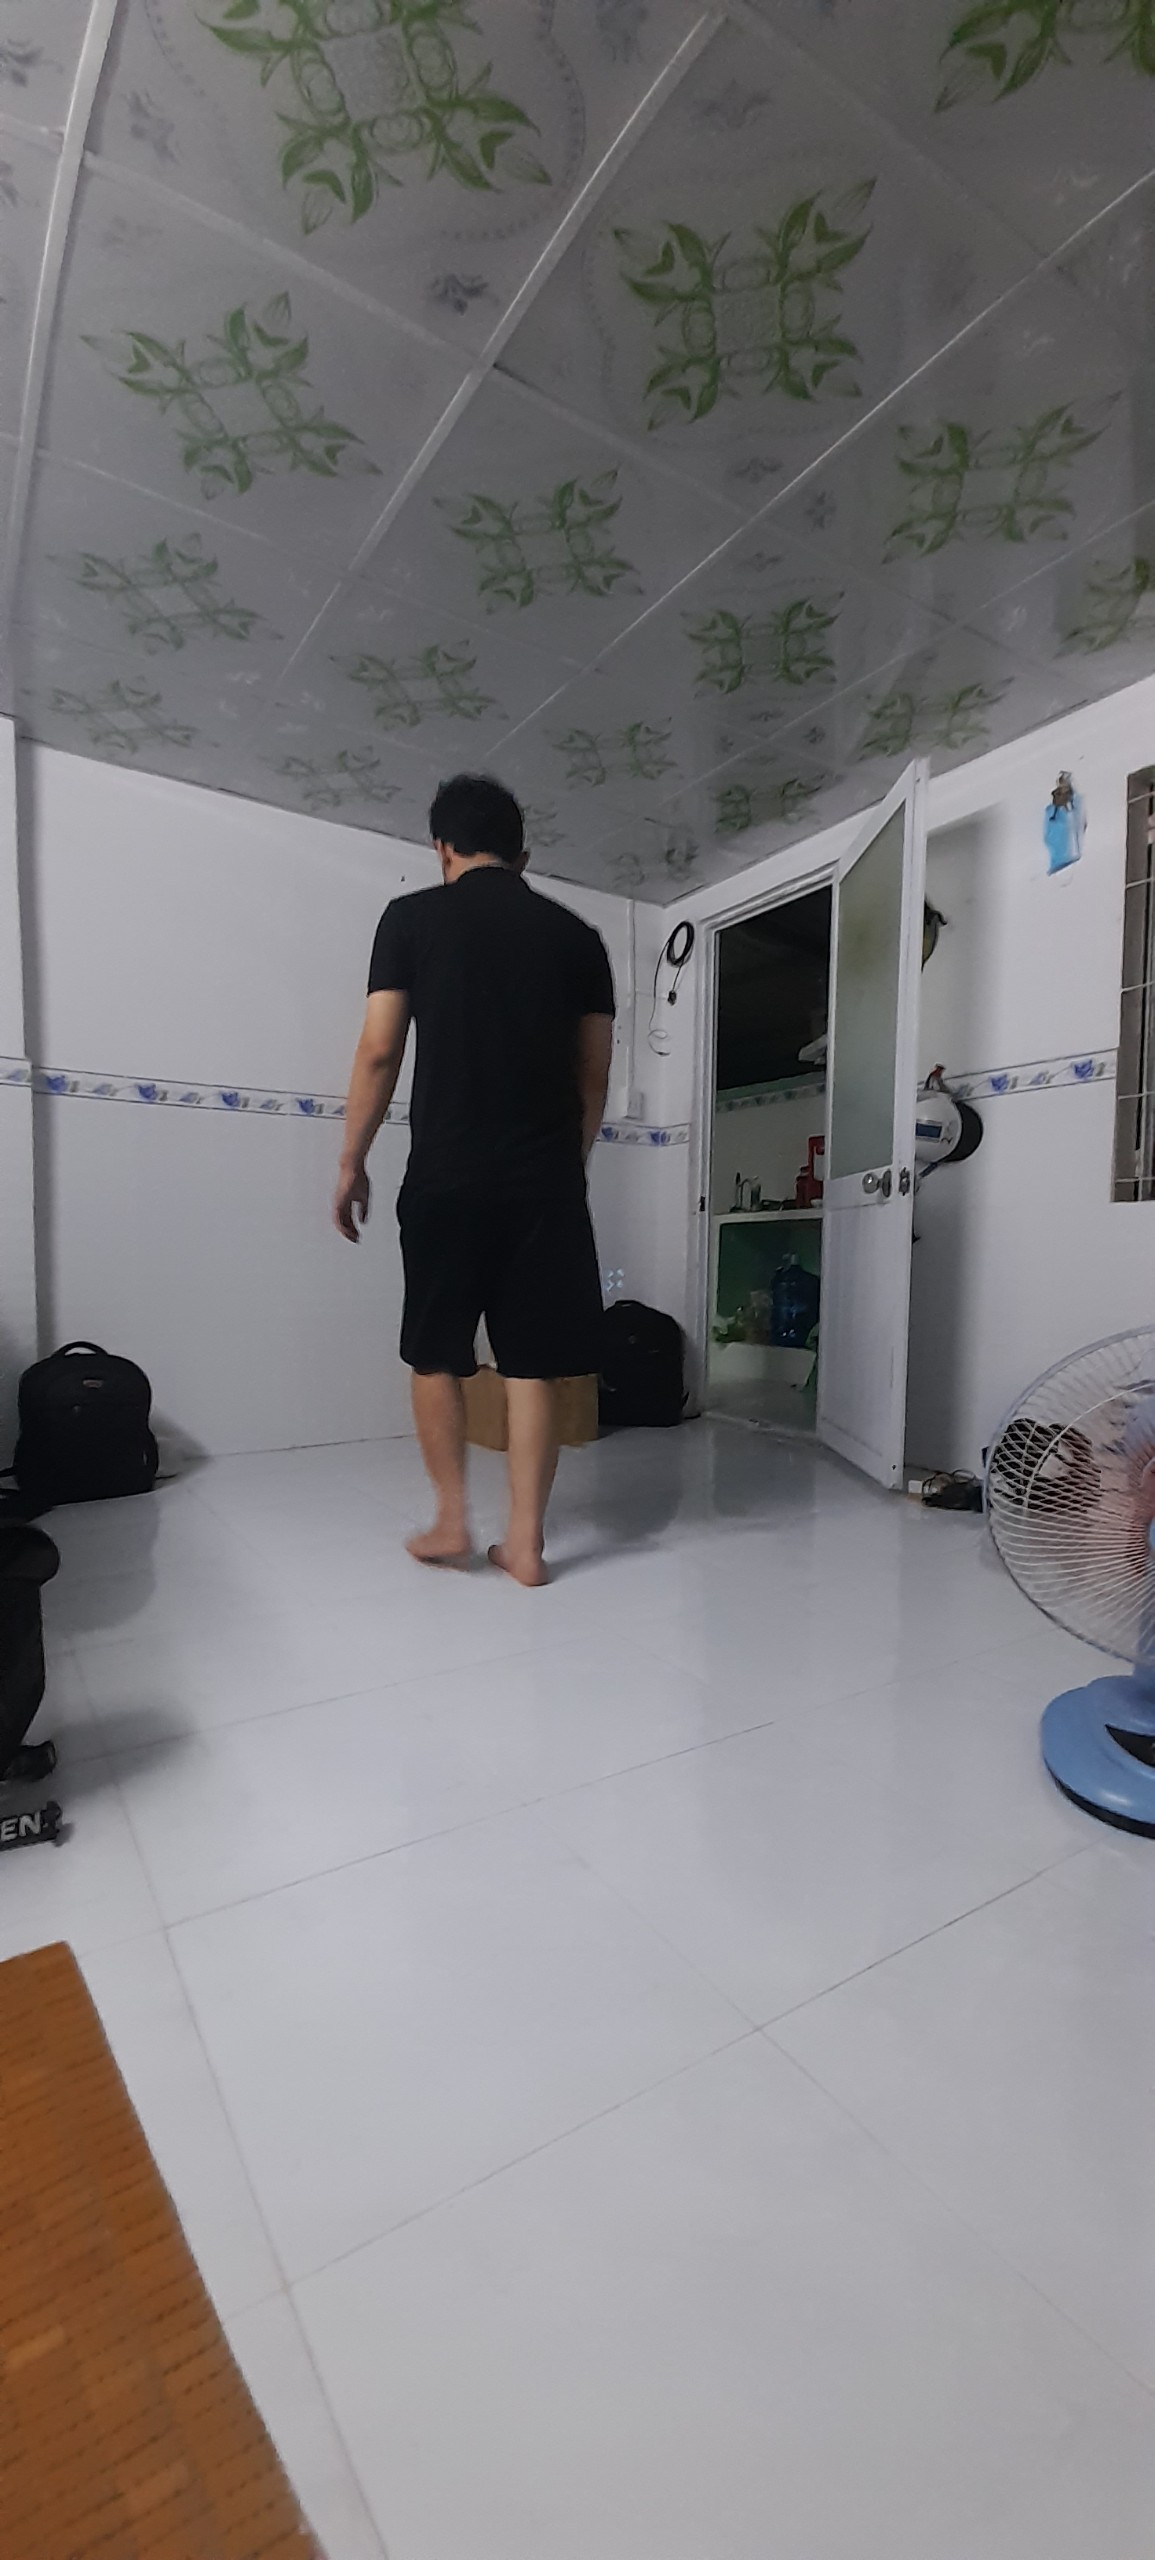person: (376, 774, 598, 1593)
